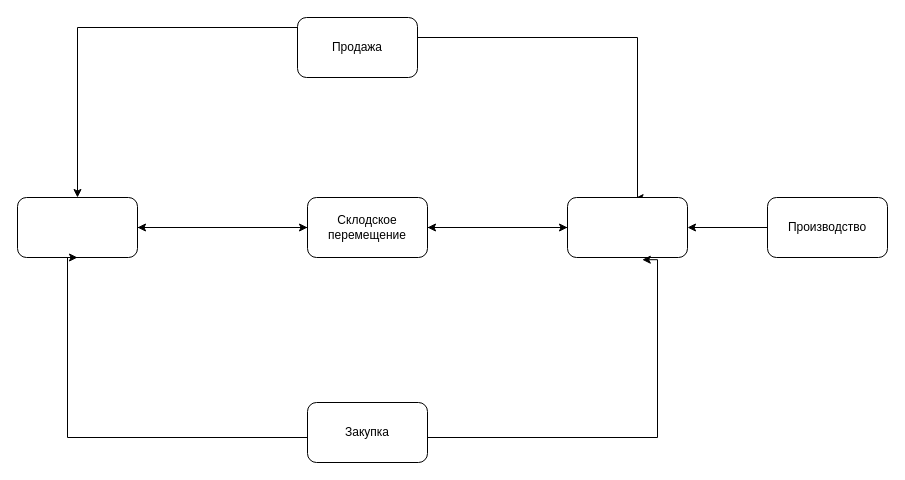
The diagram is 905 pixels wide and 480 high, and some of its shapes have lost their labels. The centre of each missing label's shape, as x and y in pixels:
Доставка: point (77, 227)
Обеспечение потребностей производство: point (627, 227)
